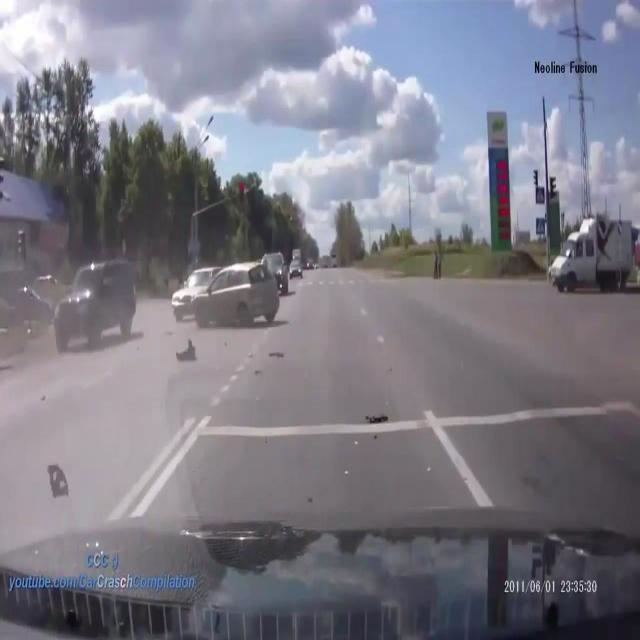normal: (44, 250, 140, 360), (184, 259, 293, 333), (166, 247, 224, 324)
